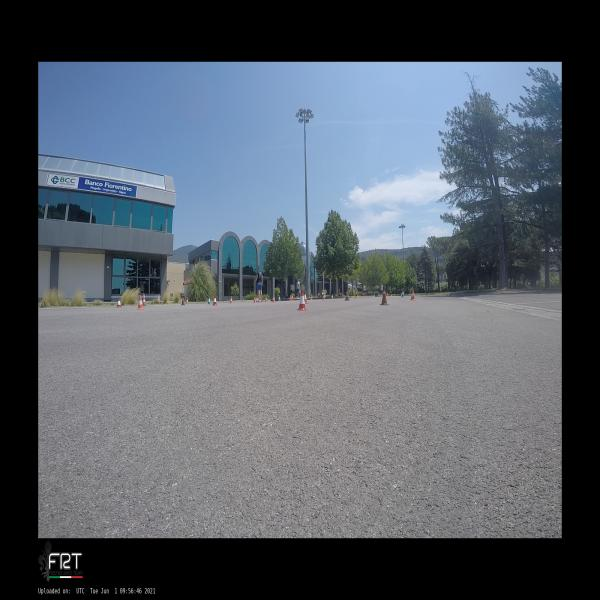blue_cone: (401, 290, 405, 298), (278, 295, 282, 302), (207, 297, 211, 304)
large_orange_cone: (142, 292, 147, 306), (344, 290, 350, 300)
orange_cone: (296, 290, 308, 310), (136, 294, 144, 309), (410, 289, 416, 300), (212, 296, 218, 306), (116, 298, 122, 307), (304, 292, 308, 304), (229, 296, 234, 304), (271, 295, 276, 303), (321, 293, 326, 300), (253, 295, 257, 303), (264, 296, 268, 302), (186, 299, 189, 305), (291, 295, 294, 301), (256, 296, 258, 303), (331, 293, 333, 299), (290, 295, 292, 301), (310, 296, 312, 300)
unknown_cone: (380, 288, 390, 305), (180, 296, 186, 305), (242, 298, 244, 302)
yellow_cone: (354, 291, 358, 300)
